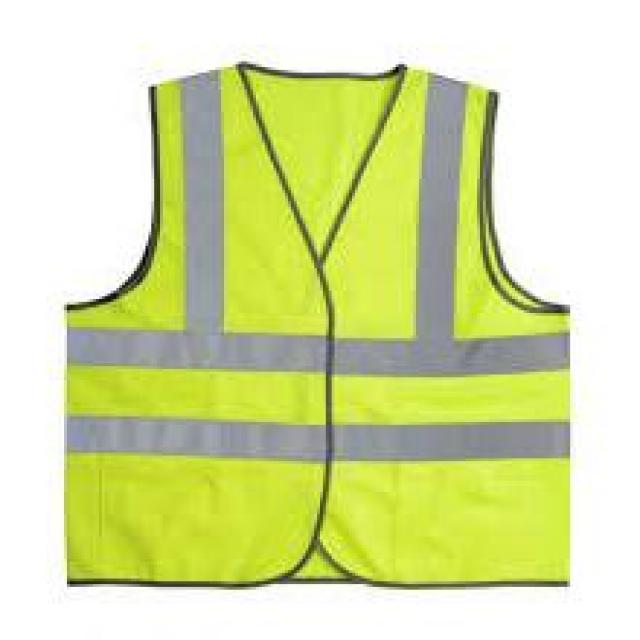Reflective-Jacket: (29, 48, 594, 606)
